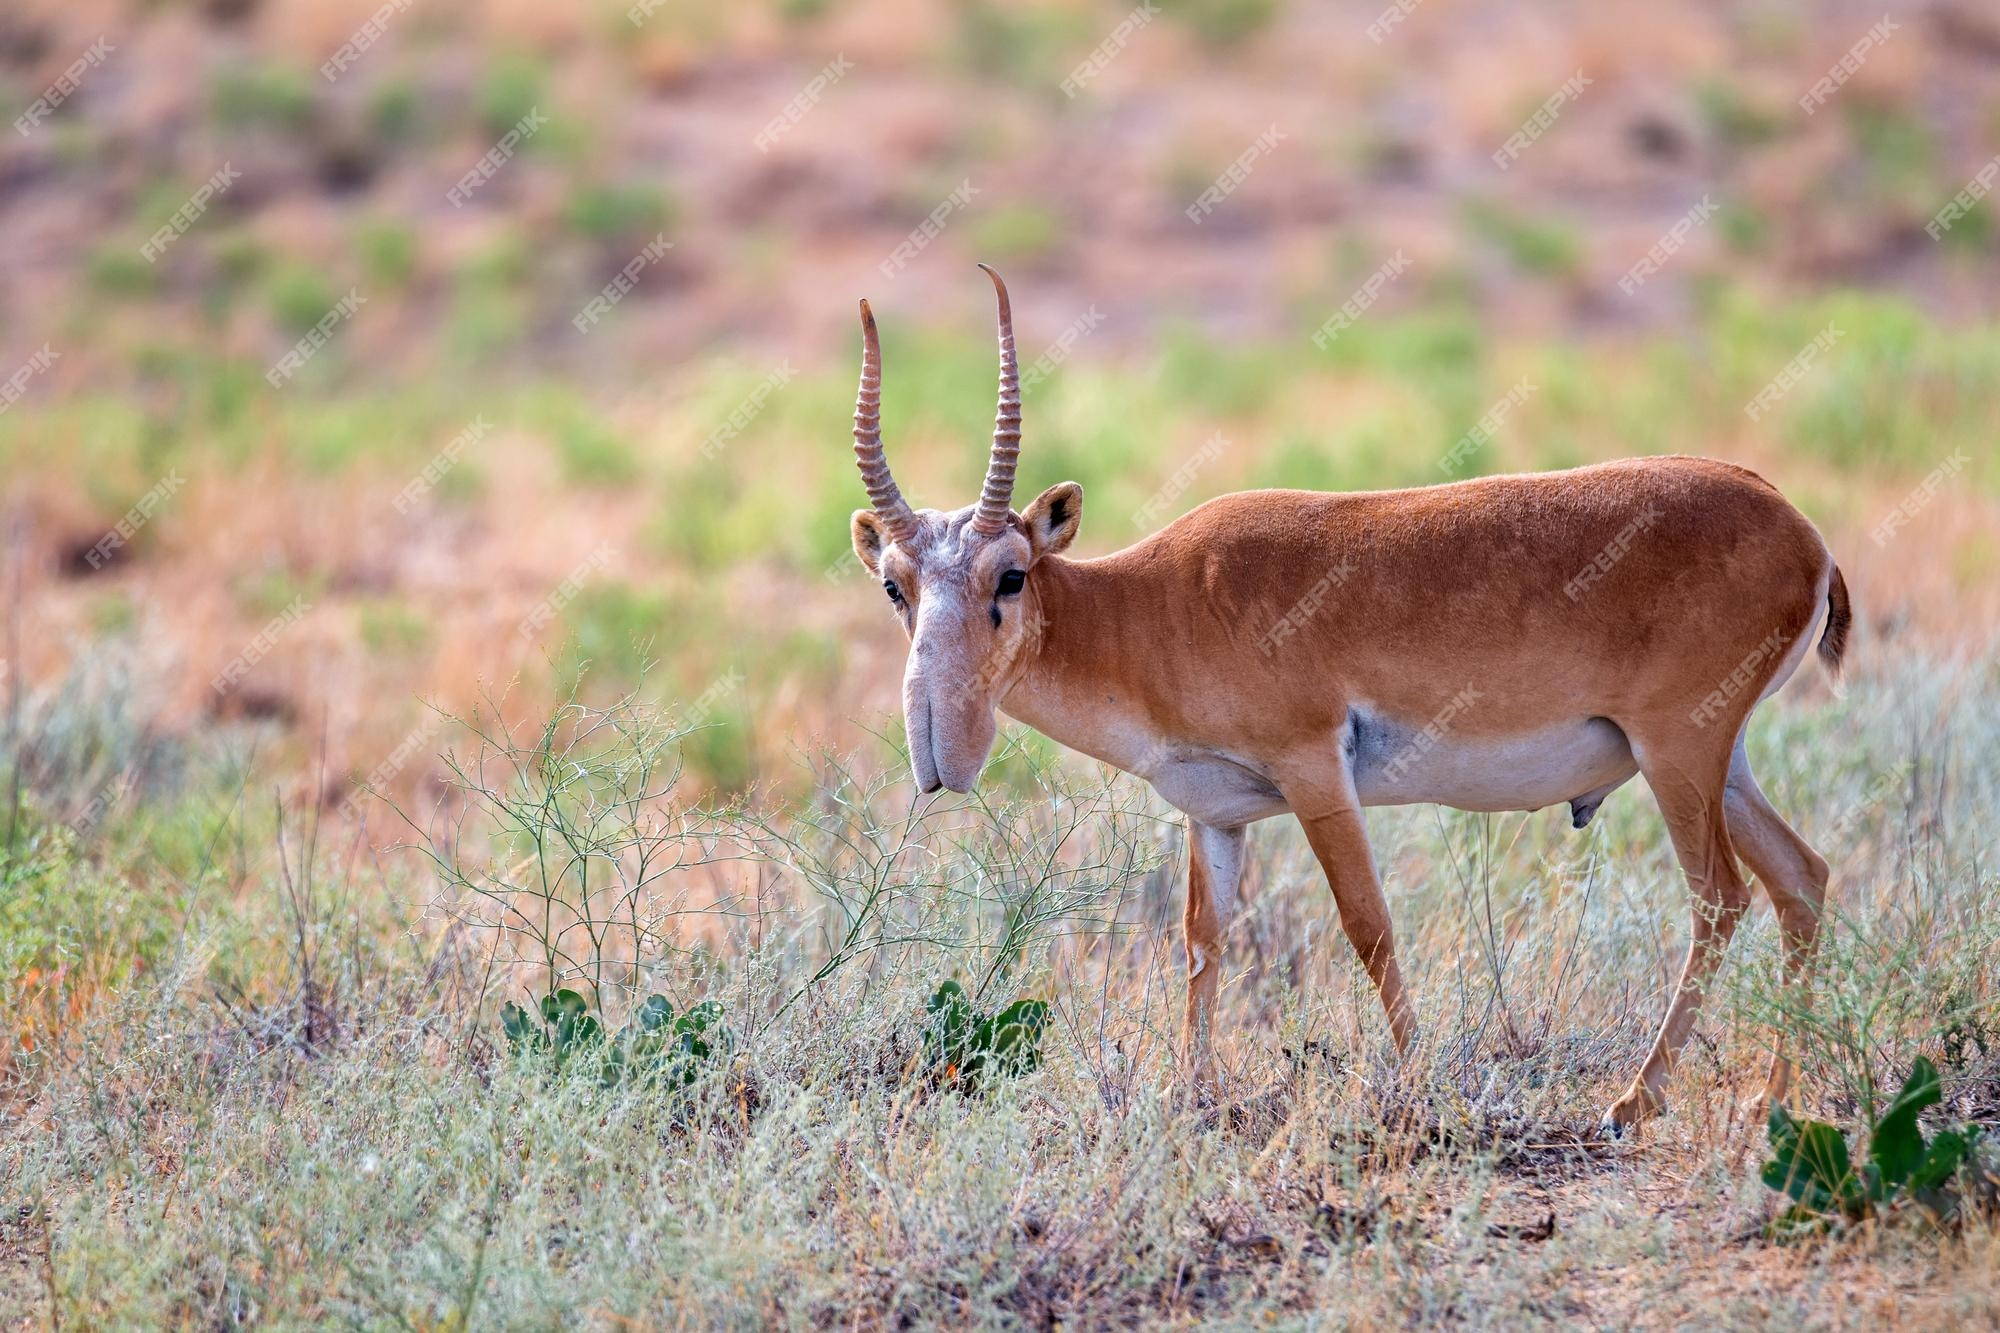saiga: (845, 262, 1865, 1128)
